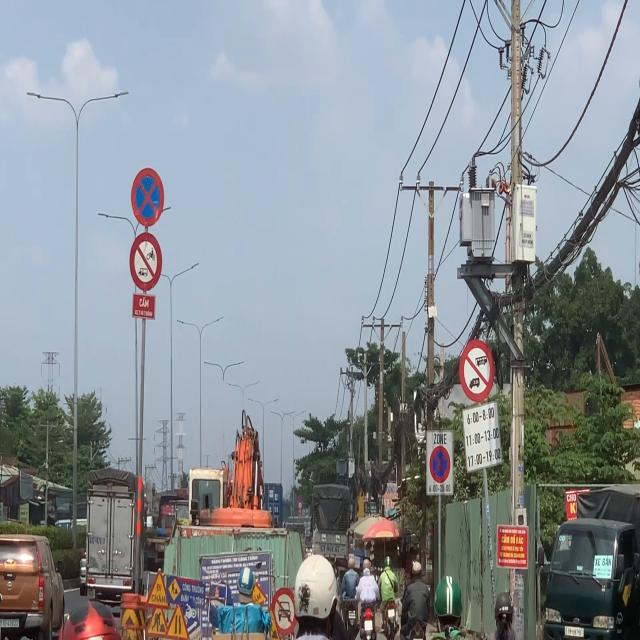Cam con lai: (459, 340, 494, 402), (130, 232, 162, 292), (270, 587, 298, 637)
Cam dung va do: (131, 167, 164, 227), (430, 446, 450, 483)
Nguy hiem: (145, 568, 171, 610), (166, 601, 190, 640), (146, 600, 170, 638), (251, 579, 267, 608), (268, 613, 280, 640)
